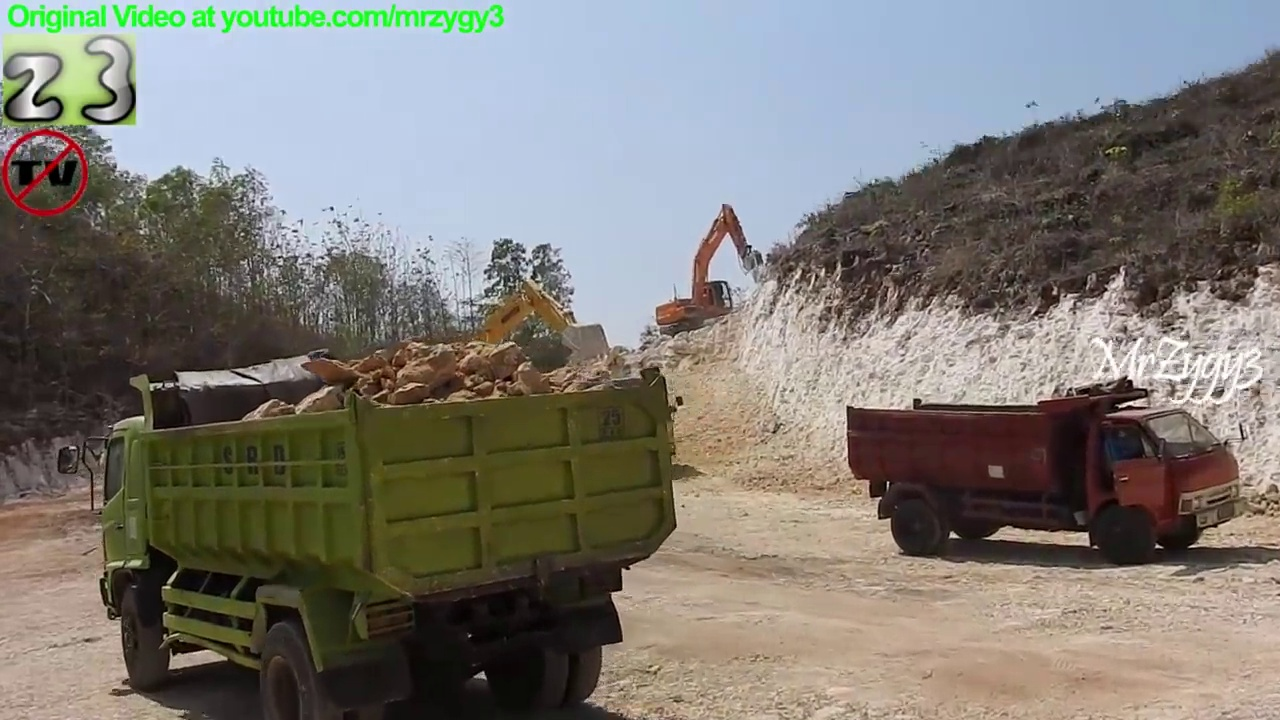excavator: (391, 274, 619, 469), (650, 199, 775, 341)
truck: (48, 344, 688, 720), (838, 372, 1253, 569)
